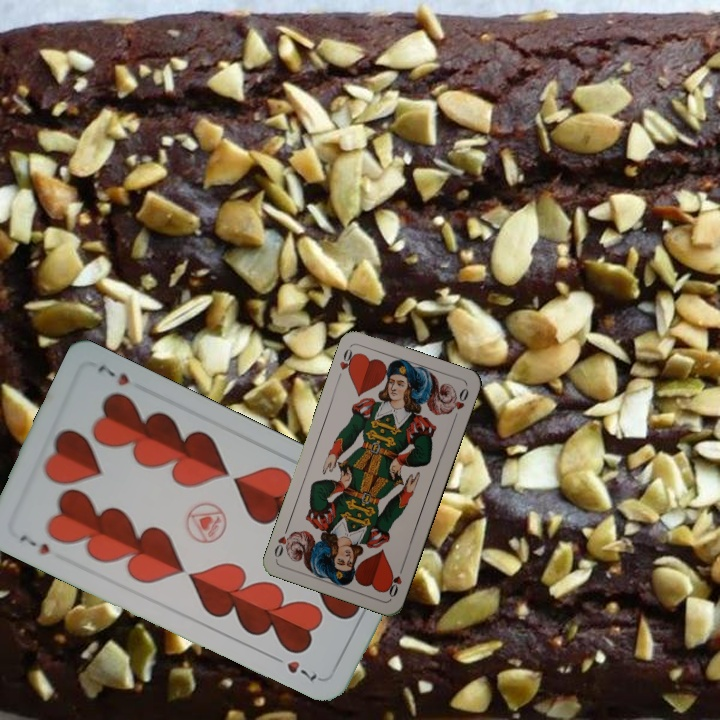H7: (15, 530, 52, 558)
HO: (383, 561, 406, 600), (335, 343, 359, 377)
